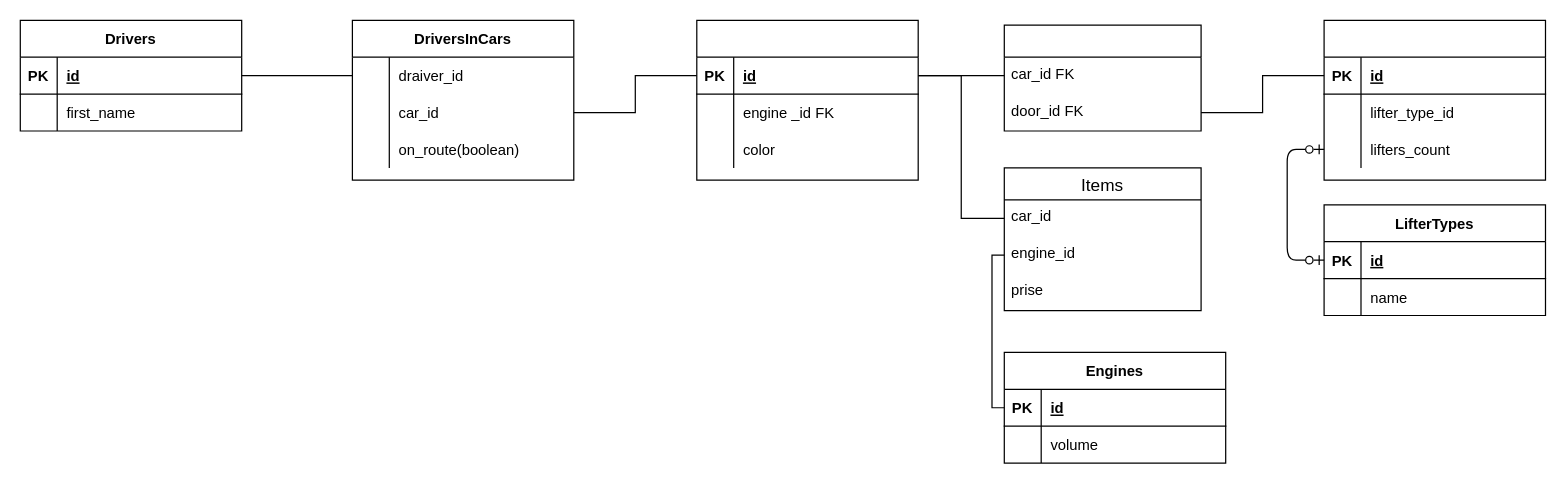
Some shapes in this 1566 by 483 pixel diagram are drawn without their labels. The shapes that lost their labels are listed below. From the top down, each one's box as (x1, y1, x2, y2) in pixels, then its label:
(1003, 24, 1201, 131): DoorsInCars
(696, 19, 918, 180): Cars
(1323, 19, 1545, 180): Doors
